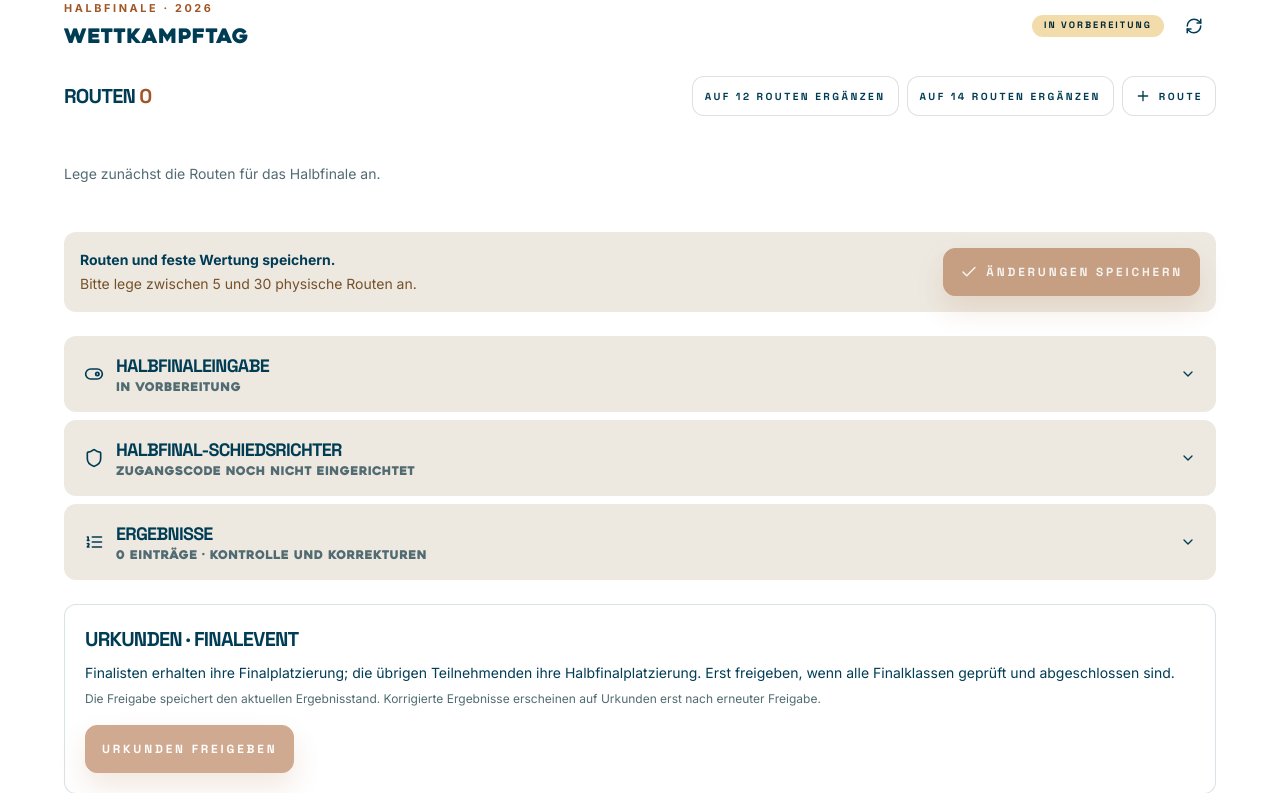
Test: competition admin › can explicitly save 14 placeholder routes without scoring or class assignments
Later steps or results of the test are not shown.
What coordinates should you click on to do the following:
click the button "Auf 14 Routen ergänzen"
I would click on:
 (1010, 96)
Its box is [906,76,1114,116].
(page scrolled)
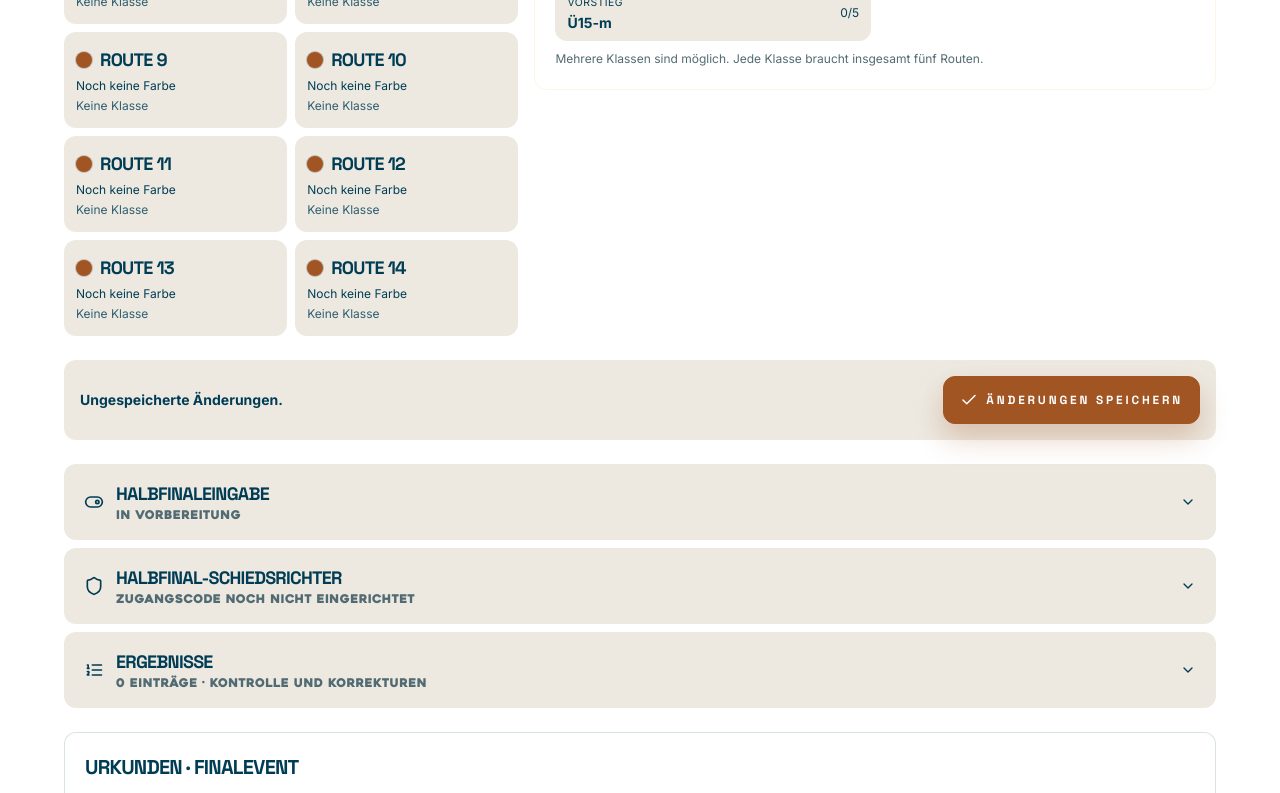
Check: the button "Änderungen speichern" is enabled, box [943,376,1200,424]
